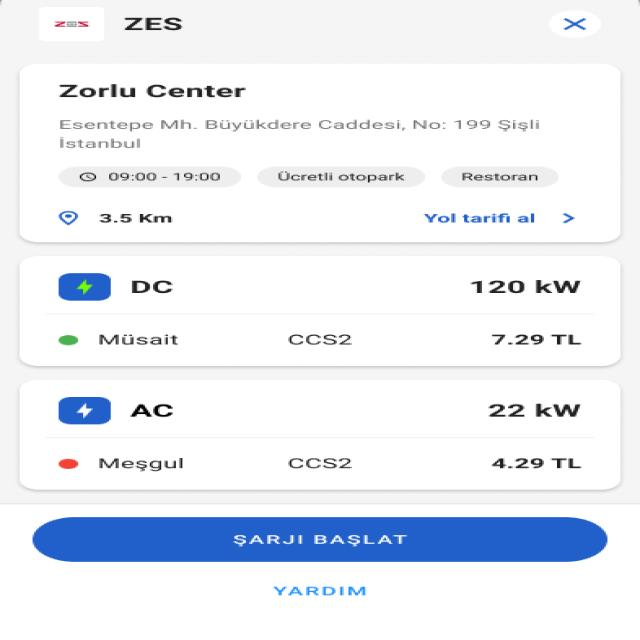QLabel: (52, 117, 546, 132), (52, 80, 250, 102), (228, 532, 413, 550), (464, 277, 588, 297), (478, 401, 584, 420), (484, 454, 586, 472), (415, 212, 542, 226), (485, 331, 586, 348), (264, 583, 370, 599), (94, 456, 188, 474), (92, 331, 185, 348), (93, 210, 178, 228), (52, 135, 143, 150), (284, 332, 356, 347), (284, 456, 356, 471), (121, 16, 185, 32), (124, 279, 176, 295), (126, 404, 176, 418)
VBtn: (31, 516, 610, 564), (32, 574, 612, 610)
VCard: (18, 63, 622, 244), (17, 378, 624, 491), (17, 256, 624, 368)
VChip: (60, 165, 242, 188), (257, 164, 427, 188), (443, 165, 561, 187)
VDivider: (37, 310, 597, 318), (36, 435, 605, 441)
VFooter: (0, 504, 640, 640)
VIcon: (548, 9, 602, 39), (52, 208, 84, 226), (54, 332, 82, 348), (56, 456, 81, 472), (554, 212, 579, 225)
VImg: (38, 6, 105, 41), (56, 395, 114, 425), (56, 272, 114, 302)
